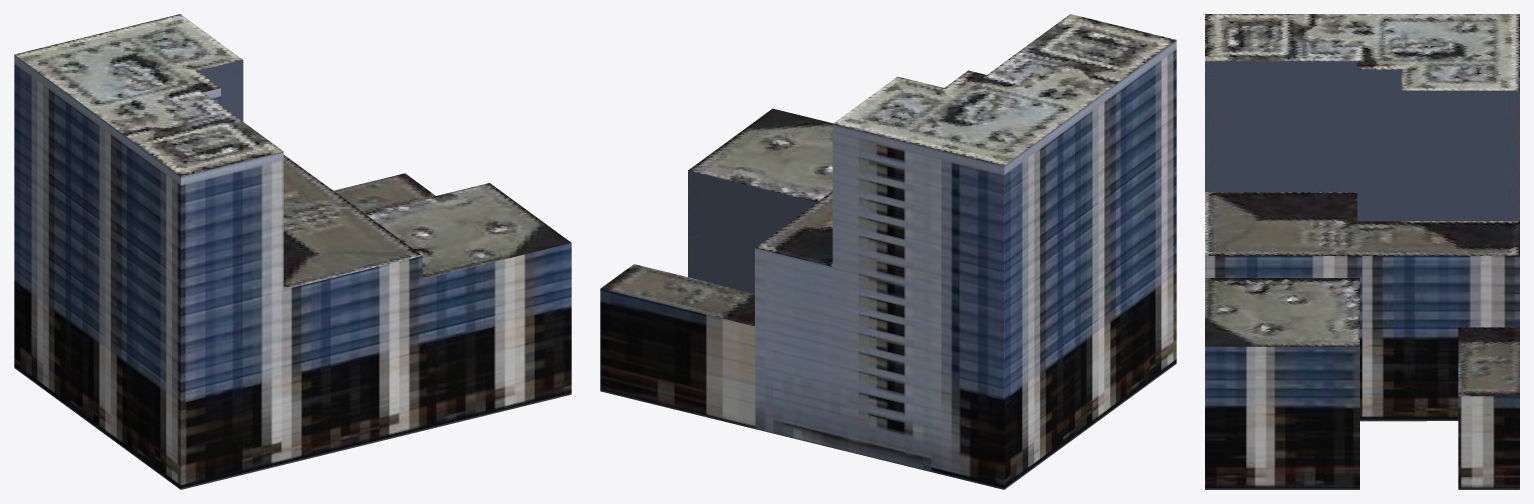
3 views of the same model, side by side, from view 1: azimuth 30°, elevation 25°; view 2: azimuth 150°, elevation 25°; view 3: azimuth 270°, elevation 25° (orthographic). The views are drawn at different scales.
Parts seen in each view (by area): view 1: b81; view 2: b81; view 3: b81.
Boxes of the visible parts, x1,y1,x2,y2 form: b81: (14,14,571,489); b81: (600,14,1176,489); b81: (1205,14,1519,489).
Bounding box in the file's own units: 67.52 × 51.73 × 49.87.
Materials: 1 (1 with a texture image).
